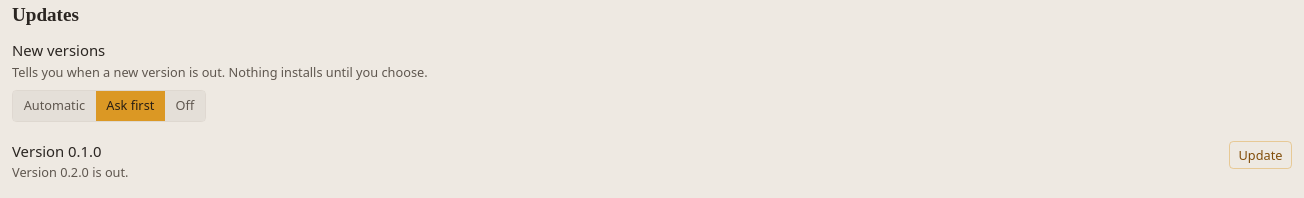
Test: UpdatesSection › with Ask first, downloads a version found only when asked
Expected: the text "Version 0.2.0 is out." is shown, [12,163,128,181]
Click the button "Update".
click(1260, 155)  # box [1229,141,1292,169]
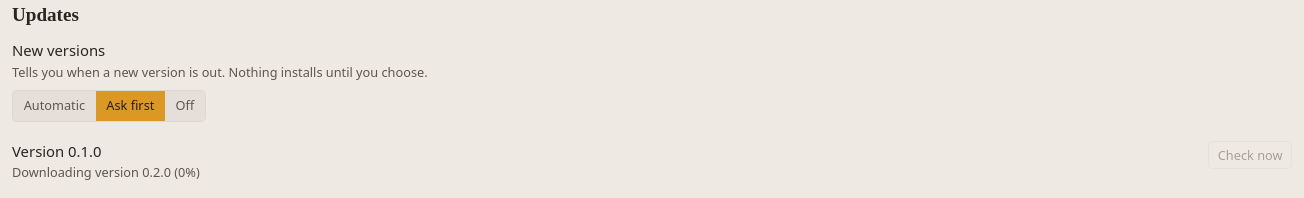
Expected: the text "Downloading version 0.2.0 (0%)" is shown, [12,163,200,181]
